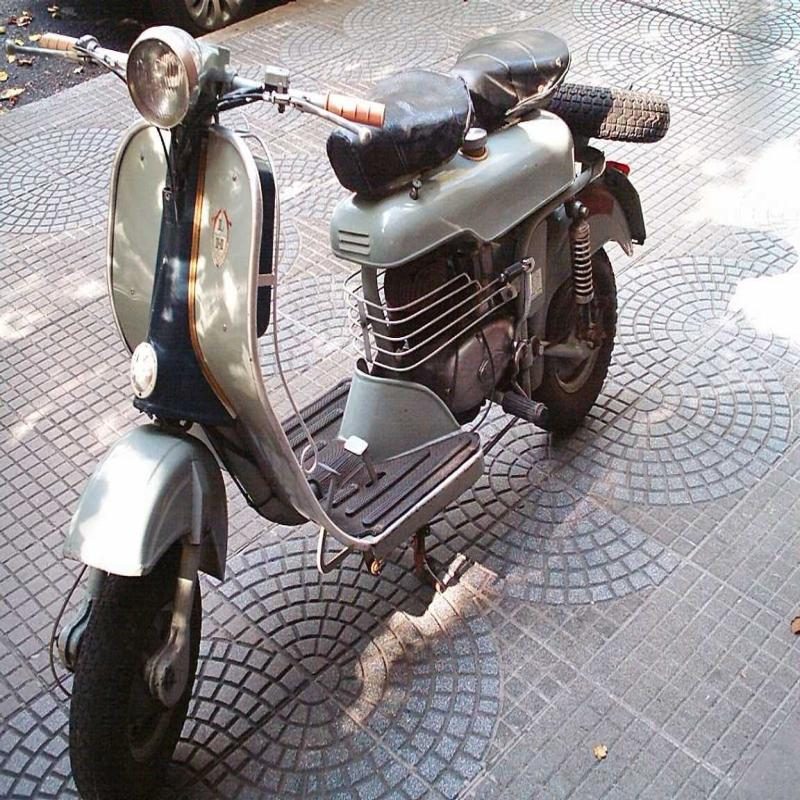bike: (46, 11, 636, 800)
